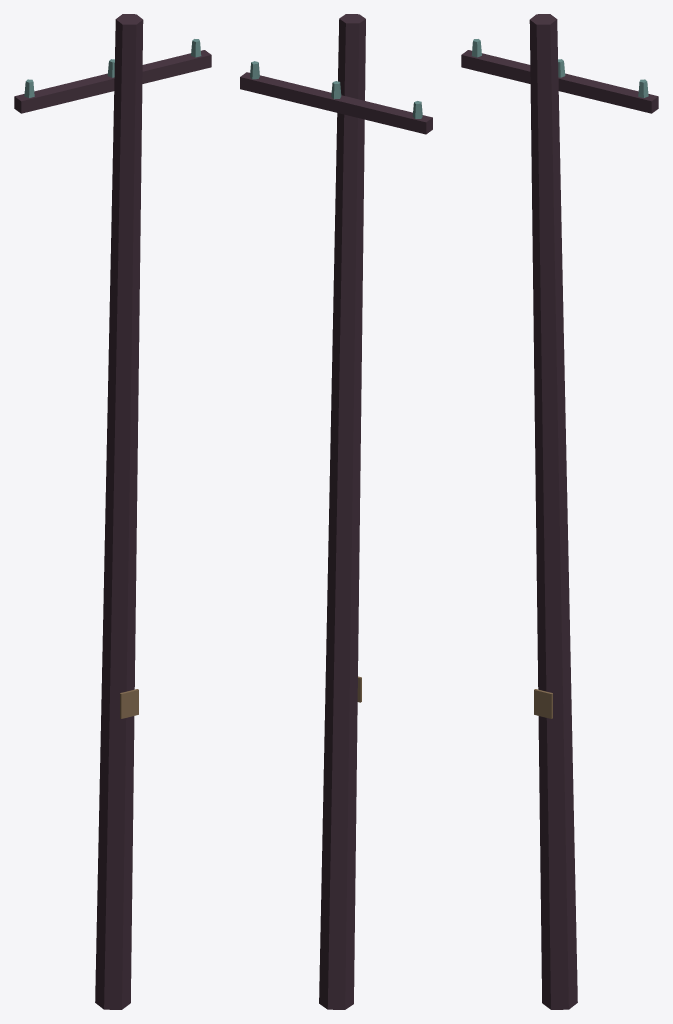
Rendered from stalp_lemn.glb.
3 views of the same model, side by side, from view 1: azimuth 30°, elevation 25°; view 2: azimuth 150°, elevation 25°; view 3: azimuth 330°, elevation 25° (orthographic). The views are drawn at different scales.
Visible parts, largest first — view 1: StalpLemn; view 2: StalpLemn; view 3: StalpLemn.
Boxes of the visible parts, x1,y1,x2,y2 form: StalpLemn: [14, 14, 211, 1009]; StalpLemn: [240, 14, 432, 1009]; StalpLemn: [461, 14, 658, 1009].
Size of the model in its own units: 1.6 by 8 by 0.4699.
